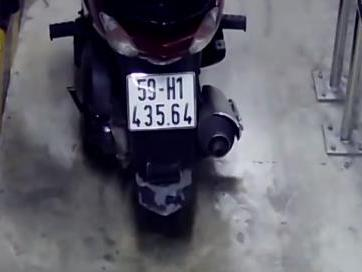num_plate: (127, 73, 201, 131)
